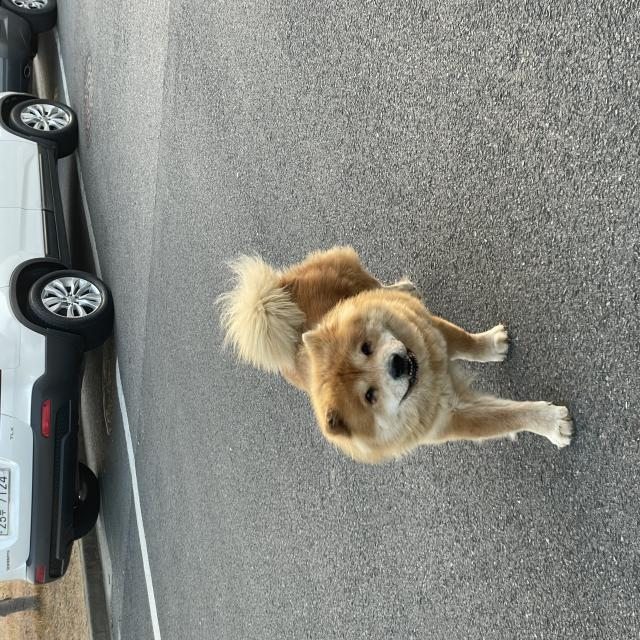Dog: (131, 287, 297, 640)
